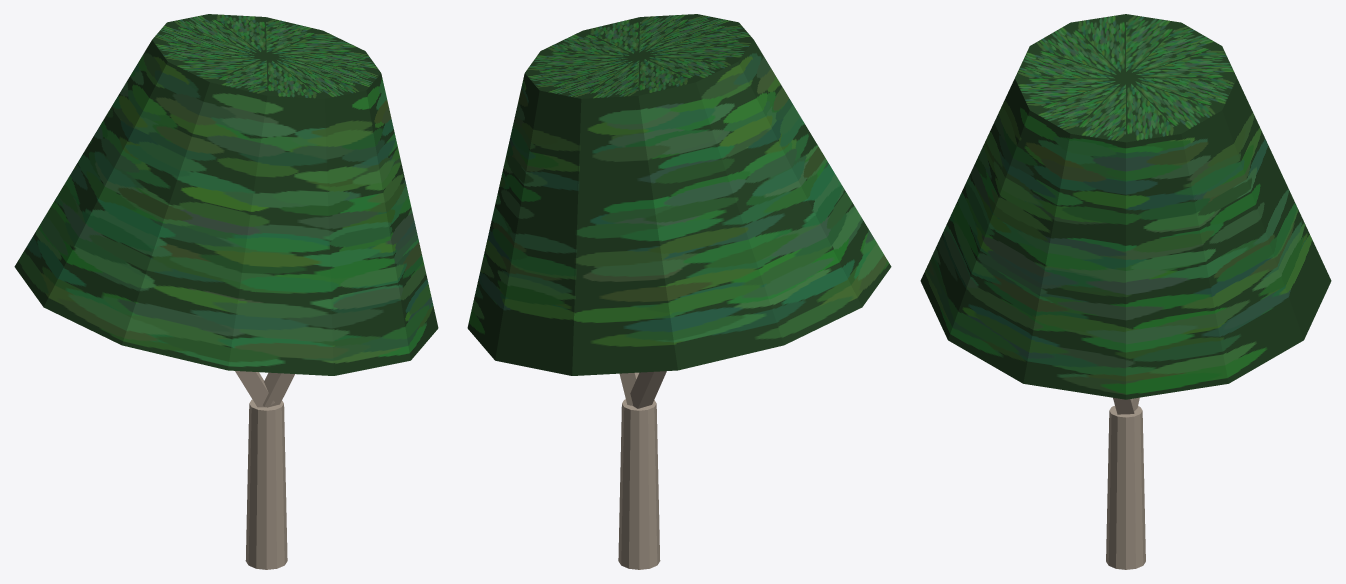
Rendered from pohon_mangga_sedang.glb.
The picture shows the model from 3 angles, left to right: view 1: azimuth 30°, elevation 25°; view 2: azimuth 150°, elevation 25°; view 3: azimuth 270°, elevation 25°; orthographic projection. The views are drawn at different scales.
Parts seen in each view (by area): view 1: Daun_Pohon_Mangga, Batang_Pohon_Mangga; view 2: Daun_Pohon_Mangga, Batang_Pohon_Mangga; view 3: Daun_Pohon_Mangga, Batang_Pohon_Mangga.
Part boxes in pixels (bbox=[...]): Daun_Pohon_Mangga: bbox=[14, 14, 438, 375]; Batang_Pohon_Mangga: bbox=[235, 371, 294, 569]; Daun_Pohon_Mangga: bbox=[467, 14, 891, 375]; Batang_Pohon_Mangga: bbox=[618, 371, 666, 569]; Daun_Pohon_Mangga: bbox=[920, 14, 1331, 399]; Batang_Pohon_Mangga: bbox=[1106, 397, 1145, 569].
Bounding box in the file's own units: 3.64 × 4.98 × 3.7.
2 materials, 1 textured.
